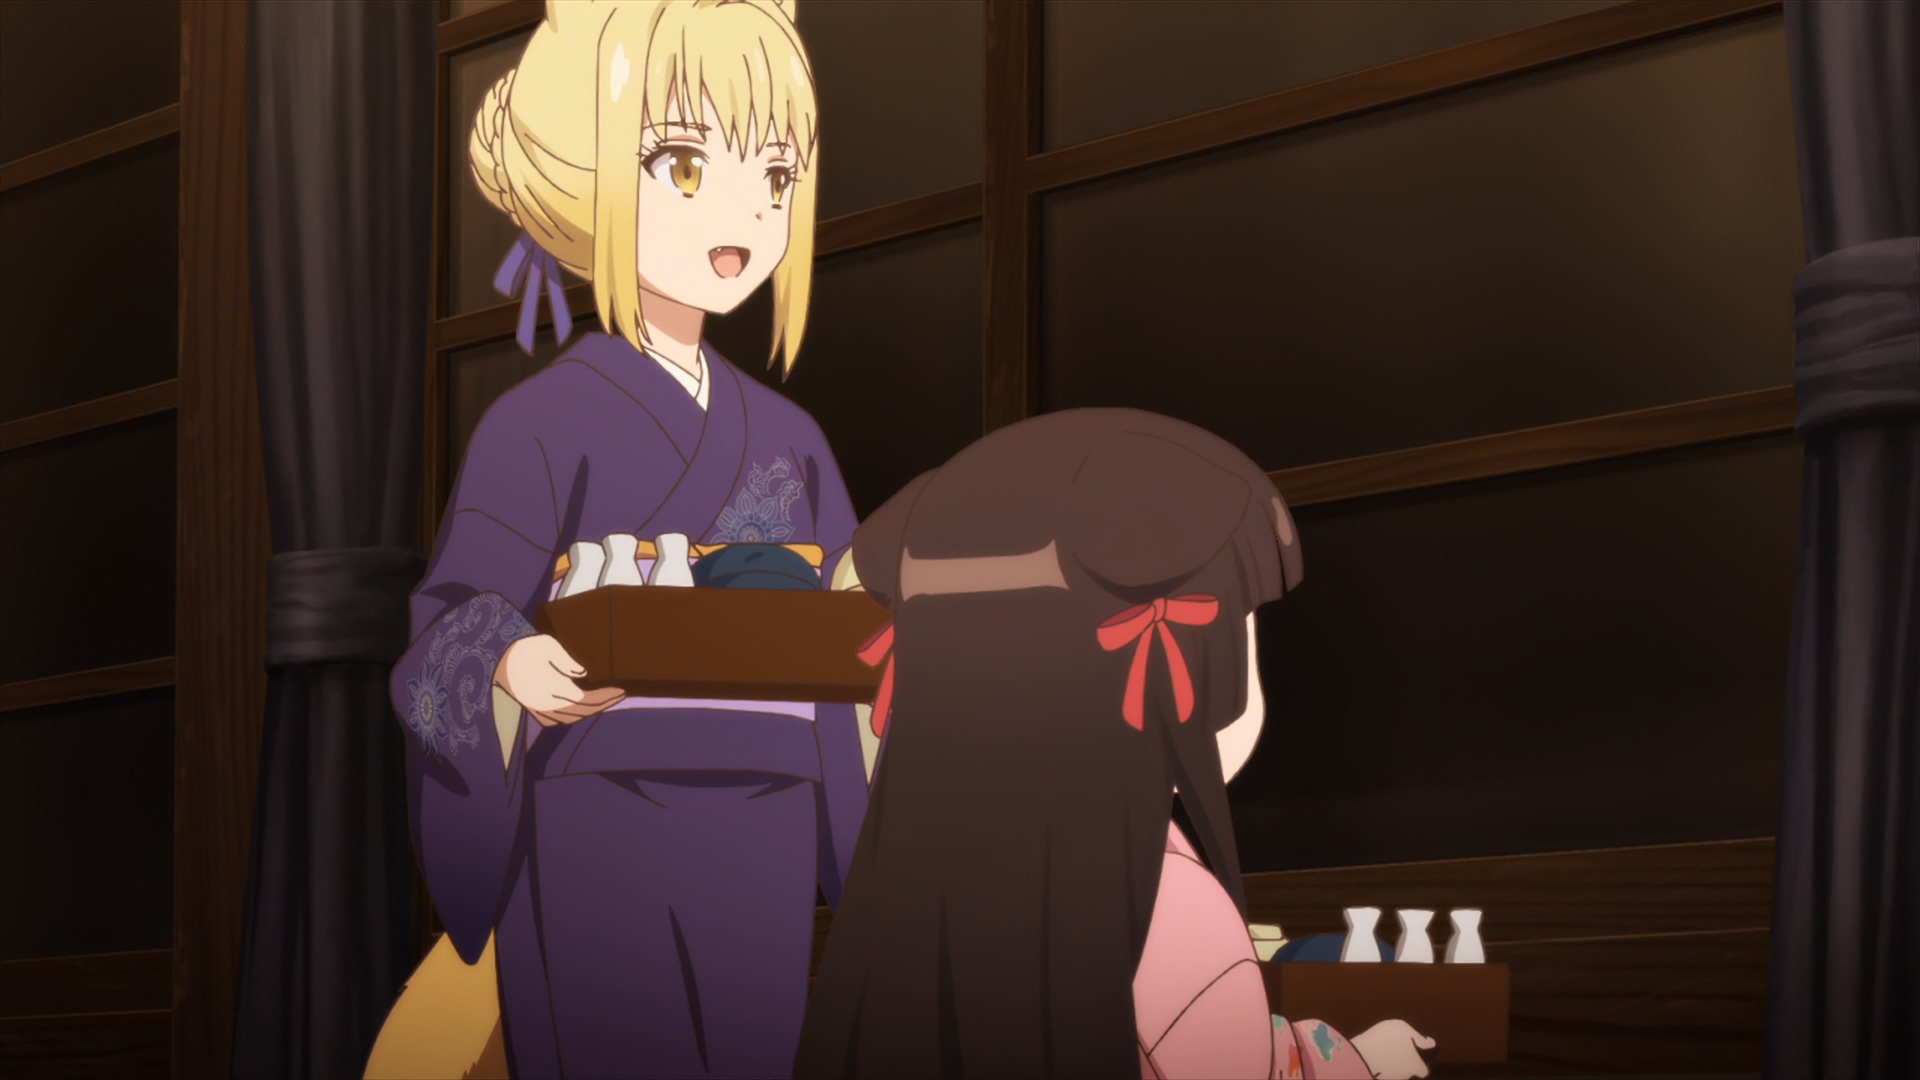桐: (364, 1, 880, 1080)
樱: (804, 404, 1436, 1080)
